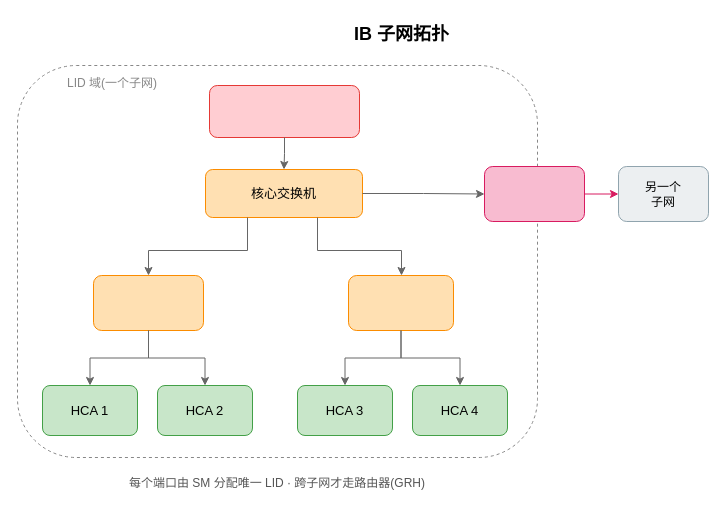
The diagram is 726 pixels wide and 510 high, and some of its shapes have lost their labels. The centre of each missing label's shape, as x and y in pixels:
SM 节点 (Master SM): the point at 284,111
交换机 A: the point at 148,302
交换机 B: the point at 401,302
路由器: the point at 534,194
